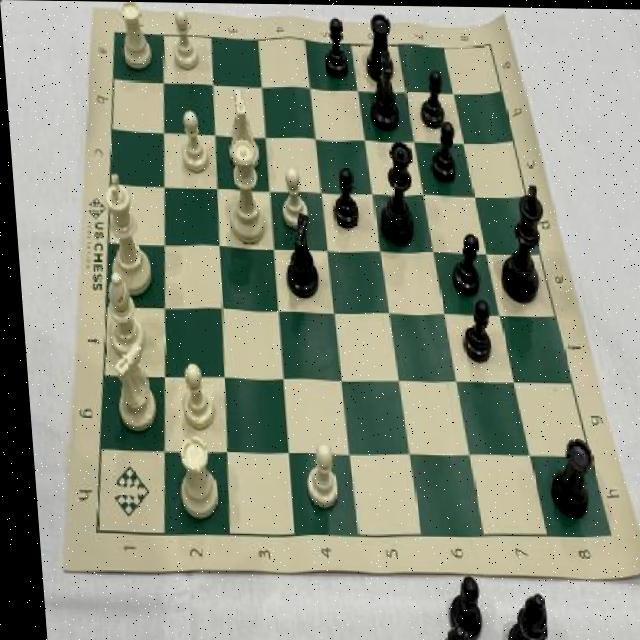black-bishop: (484, 176, 548, 304)
black-king: (275, 211, 320, 302), (365, 46, 400, 130)
black-knight: (444, 230, 480, 297), (454, 296, 489, 364), (323, 163, 358, 229), (416, 62, 449, 130), (319, 15, 352, 81), (427, 117, 458, 185)
black-pawn: (368, 137, 418, 247)
black-queen: (540, 429, 592, 519), (361, 10, 399, 82)
black-rook: (166, 434, 214, 524), (96, 270, 144, 359)
white-bishop: (96, 171, 153, 300)
white-king: (103, 341, 155, 433), (222, 83, 261, 170)
white-knight: (167, 359, 214, 433), (291, 435, 336, 510), (173, 105, 211, 175), (165, 5, 200, 72), (274, 165, 307, 232)
white-pawn: (214, 140, 270, 248)
white-queen: (112, 1, 157, 72)
